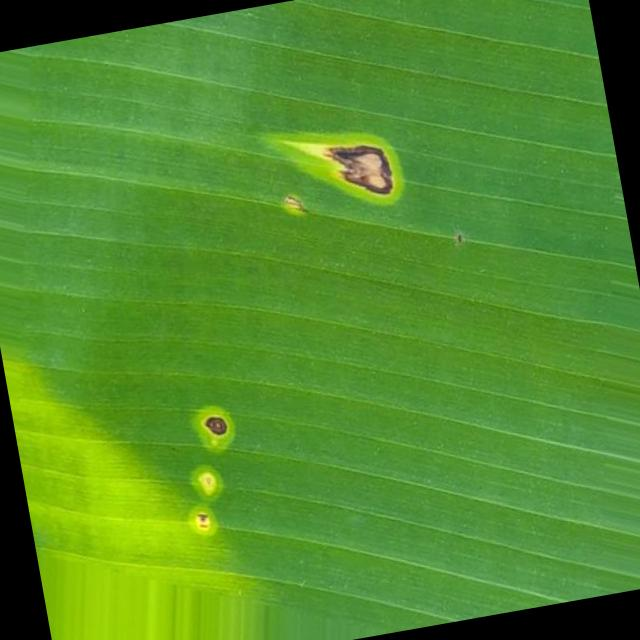Banana_Black_Sigatoka: (186, 71, 541, 340), (179, 354, 261, 576)
